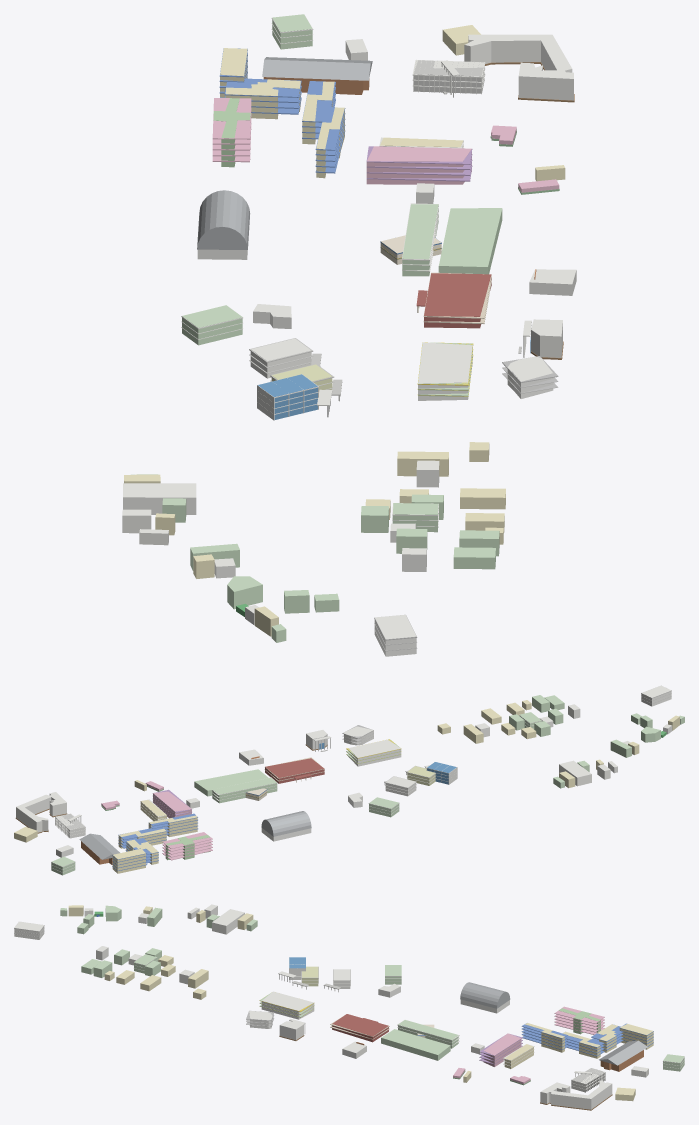
The model's file is campus_buildings.glb.
3 renders of one model, top to bottom at view 1: azimuth 30°, elevation 25°; view 2: azimuth 150°, elevation 25°; view 3: azimuth 270°, elevation 25°, orthographic. The views are drawn at different scales.
Parts seen in each view (by area): view 1: Computer_Technology__approx___0, Micsat_Clean_Room__0, Rajam_Hostel__0, Department_of_Aeronautical_Engineering__0, Hangar_II___Exam_Hall__approx___1, Department_of_Automobile_Engineering__0, Hangar_I__approx___1, Mechatronics__0, Rubber___Plastics_Technology__approx___0, DCOE_Office__0, Admin_Block___Dean_Office__0, Tamirabharani_Hostel__1 (+17 smaller); view 2: Computer_Technology__approx___0, Department_of_Aeronautical_Engineering__0, Department_of_Automobile_Engineering__0, Hangar_II___Exam_Hall__approx___1, Micsat_Clean_Room__0, Mechatronics__0, Tamirabharani_Hostel__1, Old_Non_Veg_Mess___NRI_Hostel__0, Rajam_Hostel__0, Birla_Hostel__0, Hangar_I__approx___1, Rubber___Plastics_Technology__approx___0 (+14 smaller); view 3: Computer_Technology__approx___0, Micsat_Clean_Room__0, Department_of_Automobile_Engineering__0, Department_of_Aeronautical_Engineering__0, Hangar_II___Exam_Hall__approx___1, Tamirabharani_Hostel__1, Mechatronics__0, Rajam_Hostel__0, Hangar_I__approx___1, Old_Non_Veg_Mess___NRI_Hostel__0, Rubber___Plastics_Technology__approx___0, Birla_Hostel__1 (+12 smaller).
Boxes of the visible parts, left/top/right/bottom form: Computer_Technology__approx___0: left=464, top=34, right=573, bottom=100; Micsat_Clean_Room__0: left=438, top=208, right=502, bottom=274; Rajam_Hostel__0: left=366, top=146, right=471, bottom=184; Department_of_Aeronautical_Engineering__0: left=424, top=273, right=491, bottom=328; Hangar_II___Exam_Hall__approx___1: left=197, top=190, right=250, bottom=249; Department_of_Automobile_Engineering__0: left=418, top=342, right=472, bottom=400; Hangar_I__approx___1: left=262, top=57, right=372, bottom=80; Mechatronics__0: left=402, top=204, right=438, bottom=276; Rubber___Plastics_Technology__approx___0: left=123, top=483, right=196, bottom=514; DCOE_Office__0: left=182, top=305, right=242, bottom=345; Admin_Block___Dean_Office__0: left=258, top=374, right=317, bottom=419; Tamirabharani_Hostel__1: left=212, top=98, right=251, bottom=162; Computer_Technology__approx___0: left=16, top=792, right=66, bottom=832; Department_of_Aeronautical_Engineering__0: left=265, top=758, right=324, bottom=783; Department_of_Automobile_Engineering__0: left=348, top=739, right=401, bottom=766; Hangar_II___Exam_Hall__approx___1: left=261, top=811, right=311, bottom=836; Micsat_Clean_Room__0: left=194, top=769, right=268, bottom=796; Mechatronics__0: left=212, top=777, right=277, bottom=803; Tamirabharani_Hostel__1: left=162, top=832, right=212, bottom=860; Old_Non_Veg_Mess___NRI_Hostel__0: left=112, top=848, right=145, bottom=873; Rajam_Hostel__0: left=153, top=791, right=191, bottom=818; Birla_Hostel__0: left=148, top=815, right=197, bottom=836; Hangar_I__approx___1: left=79, top=833, right=119, bottom=859; Rubber___Plastics_Technology__approx___0: left=559, top=760, right=591, bottom=786; Computer_Technology__approx___0: left=540, top=1080, right=612, bottom=1109; Micsat_Clean_Room__0: left=381, top=1029, right=450, bottom=1060; Department_of_Automobile_Engineering__0: left=261, top=991, right=314, bottom=1019; Department_of_Aeronautical_Engineering__0: left=332, top=1014, right=388, bottom=1042; Hangar_II___Exam_Hall__approx___1: left=460, top=982, right=510, bottom=1008; Tamirabharani_Hostel__1: left=554, top=1006, right=604, bottom=1034; Mechatronics__0: left=398, top=1020, right=458, bottom=1048; Rajam_Hostel__0: left=483, top=1033, right=521, bottom=1066; Hangar_I__approx___1: left=599, top=1040, right=647, bottom=1065; Old_Non_Veg_Mess___NRI_Hostel__0: left=619, top=1024, right=653, bottom=1049; Rubber___Plastics_Technology__approx___0: left=212, top=909, right=244, bottom=934; Birla_Hostel__1: left=521, top=1023, right=567, bottom=1049.
Bounding box in the file's own units: 512 × 19.92 × 734.
